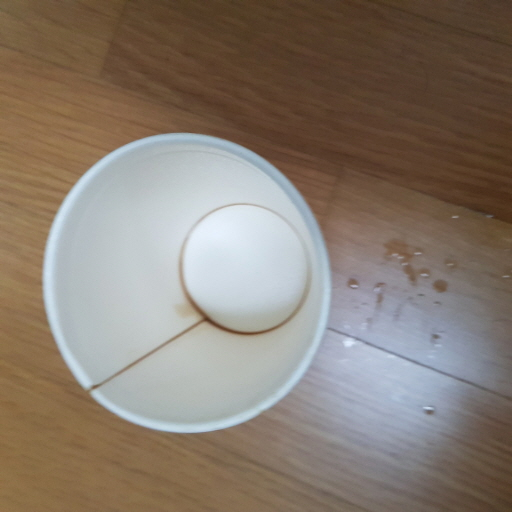Paper_1: (42, 127, 332, 440)
